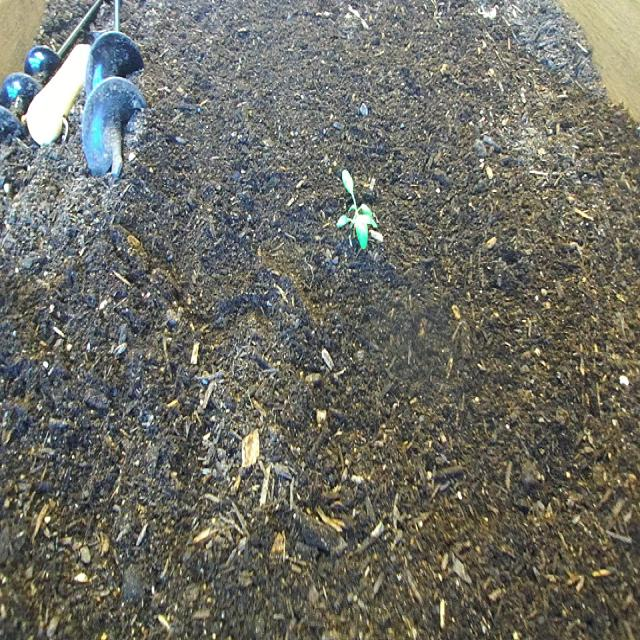Healthy: (334, 162, 384, 261)
